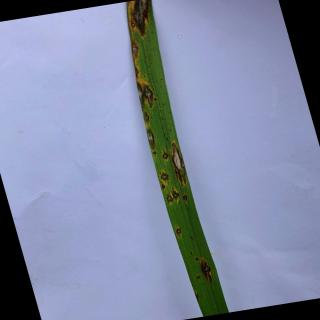Blast: (170, 141, 188, 186), (131, 0, 151, 39), (143, 83, 156, 110), (137, 82, 146, 111), (130, 38, 140, 61), (170, 186, 181, 204), (147, 128, 156, 148), (160, 171, 170, 184), (175, 224, 182, 237), (143, 112, 150, 124), (166, 194, 174, 204), (162, 151, 169, 161), (182, 193, 188, 202), (160, 183, 167, 190), (130, 21, 136, 28), (152, 151, 158, 155)
